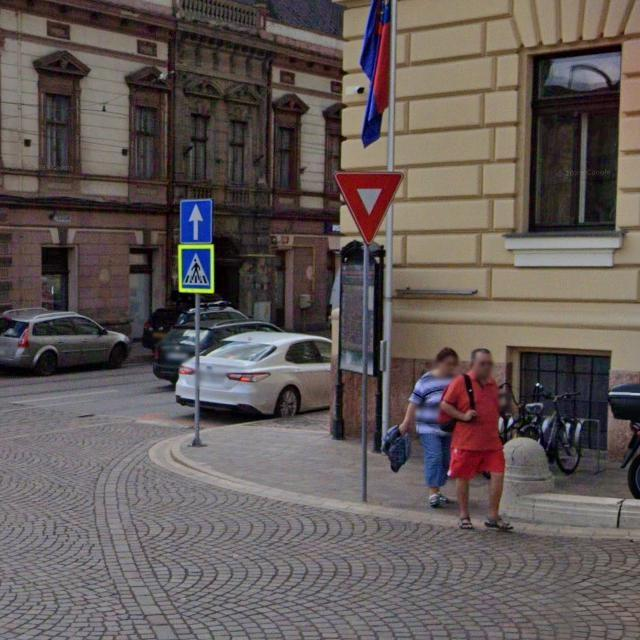info_crosswalk: (177, 244, 216, 296)
prio_give_way: (334, 171, 404, 245)
